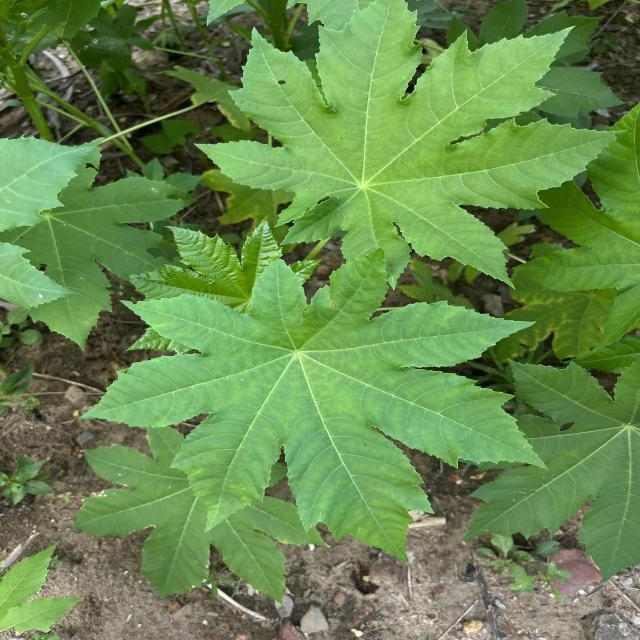Ricinus communis linn: (75, 243, 551, 567), (188, 0, 633, 296)
